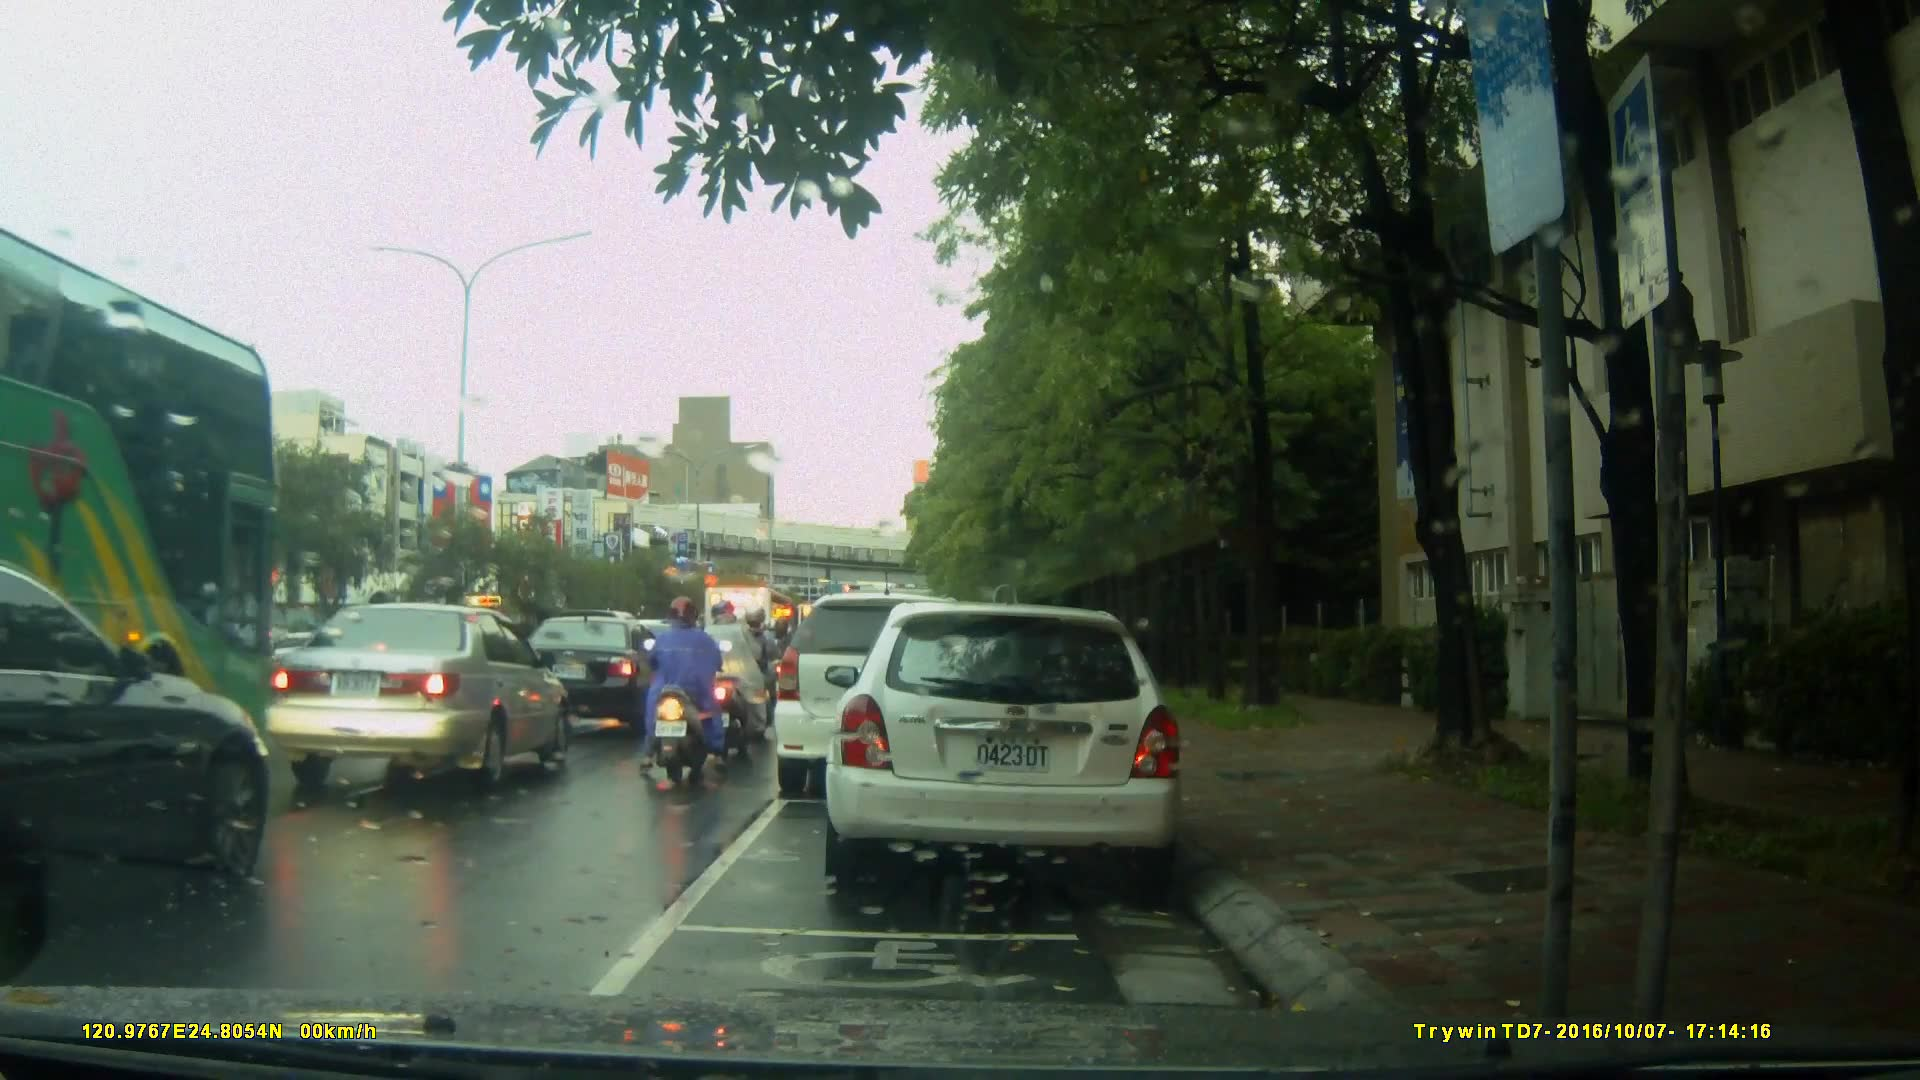rider: (628, 592, 731, 787), (701, 594, 770, 755)
vehicle: (1, 220, 319, 718), (831, 592, 1196, 897), (255, 600, 575, 797), (770, 592, 999, 799), (505, 613, 683, 735), (695, 582, 806, 706)
